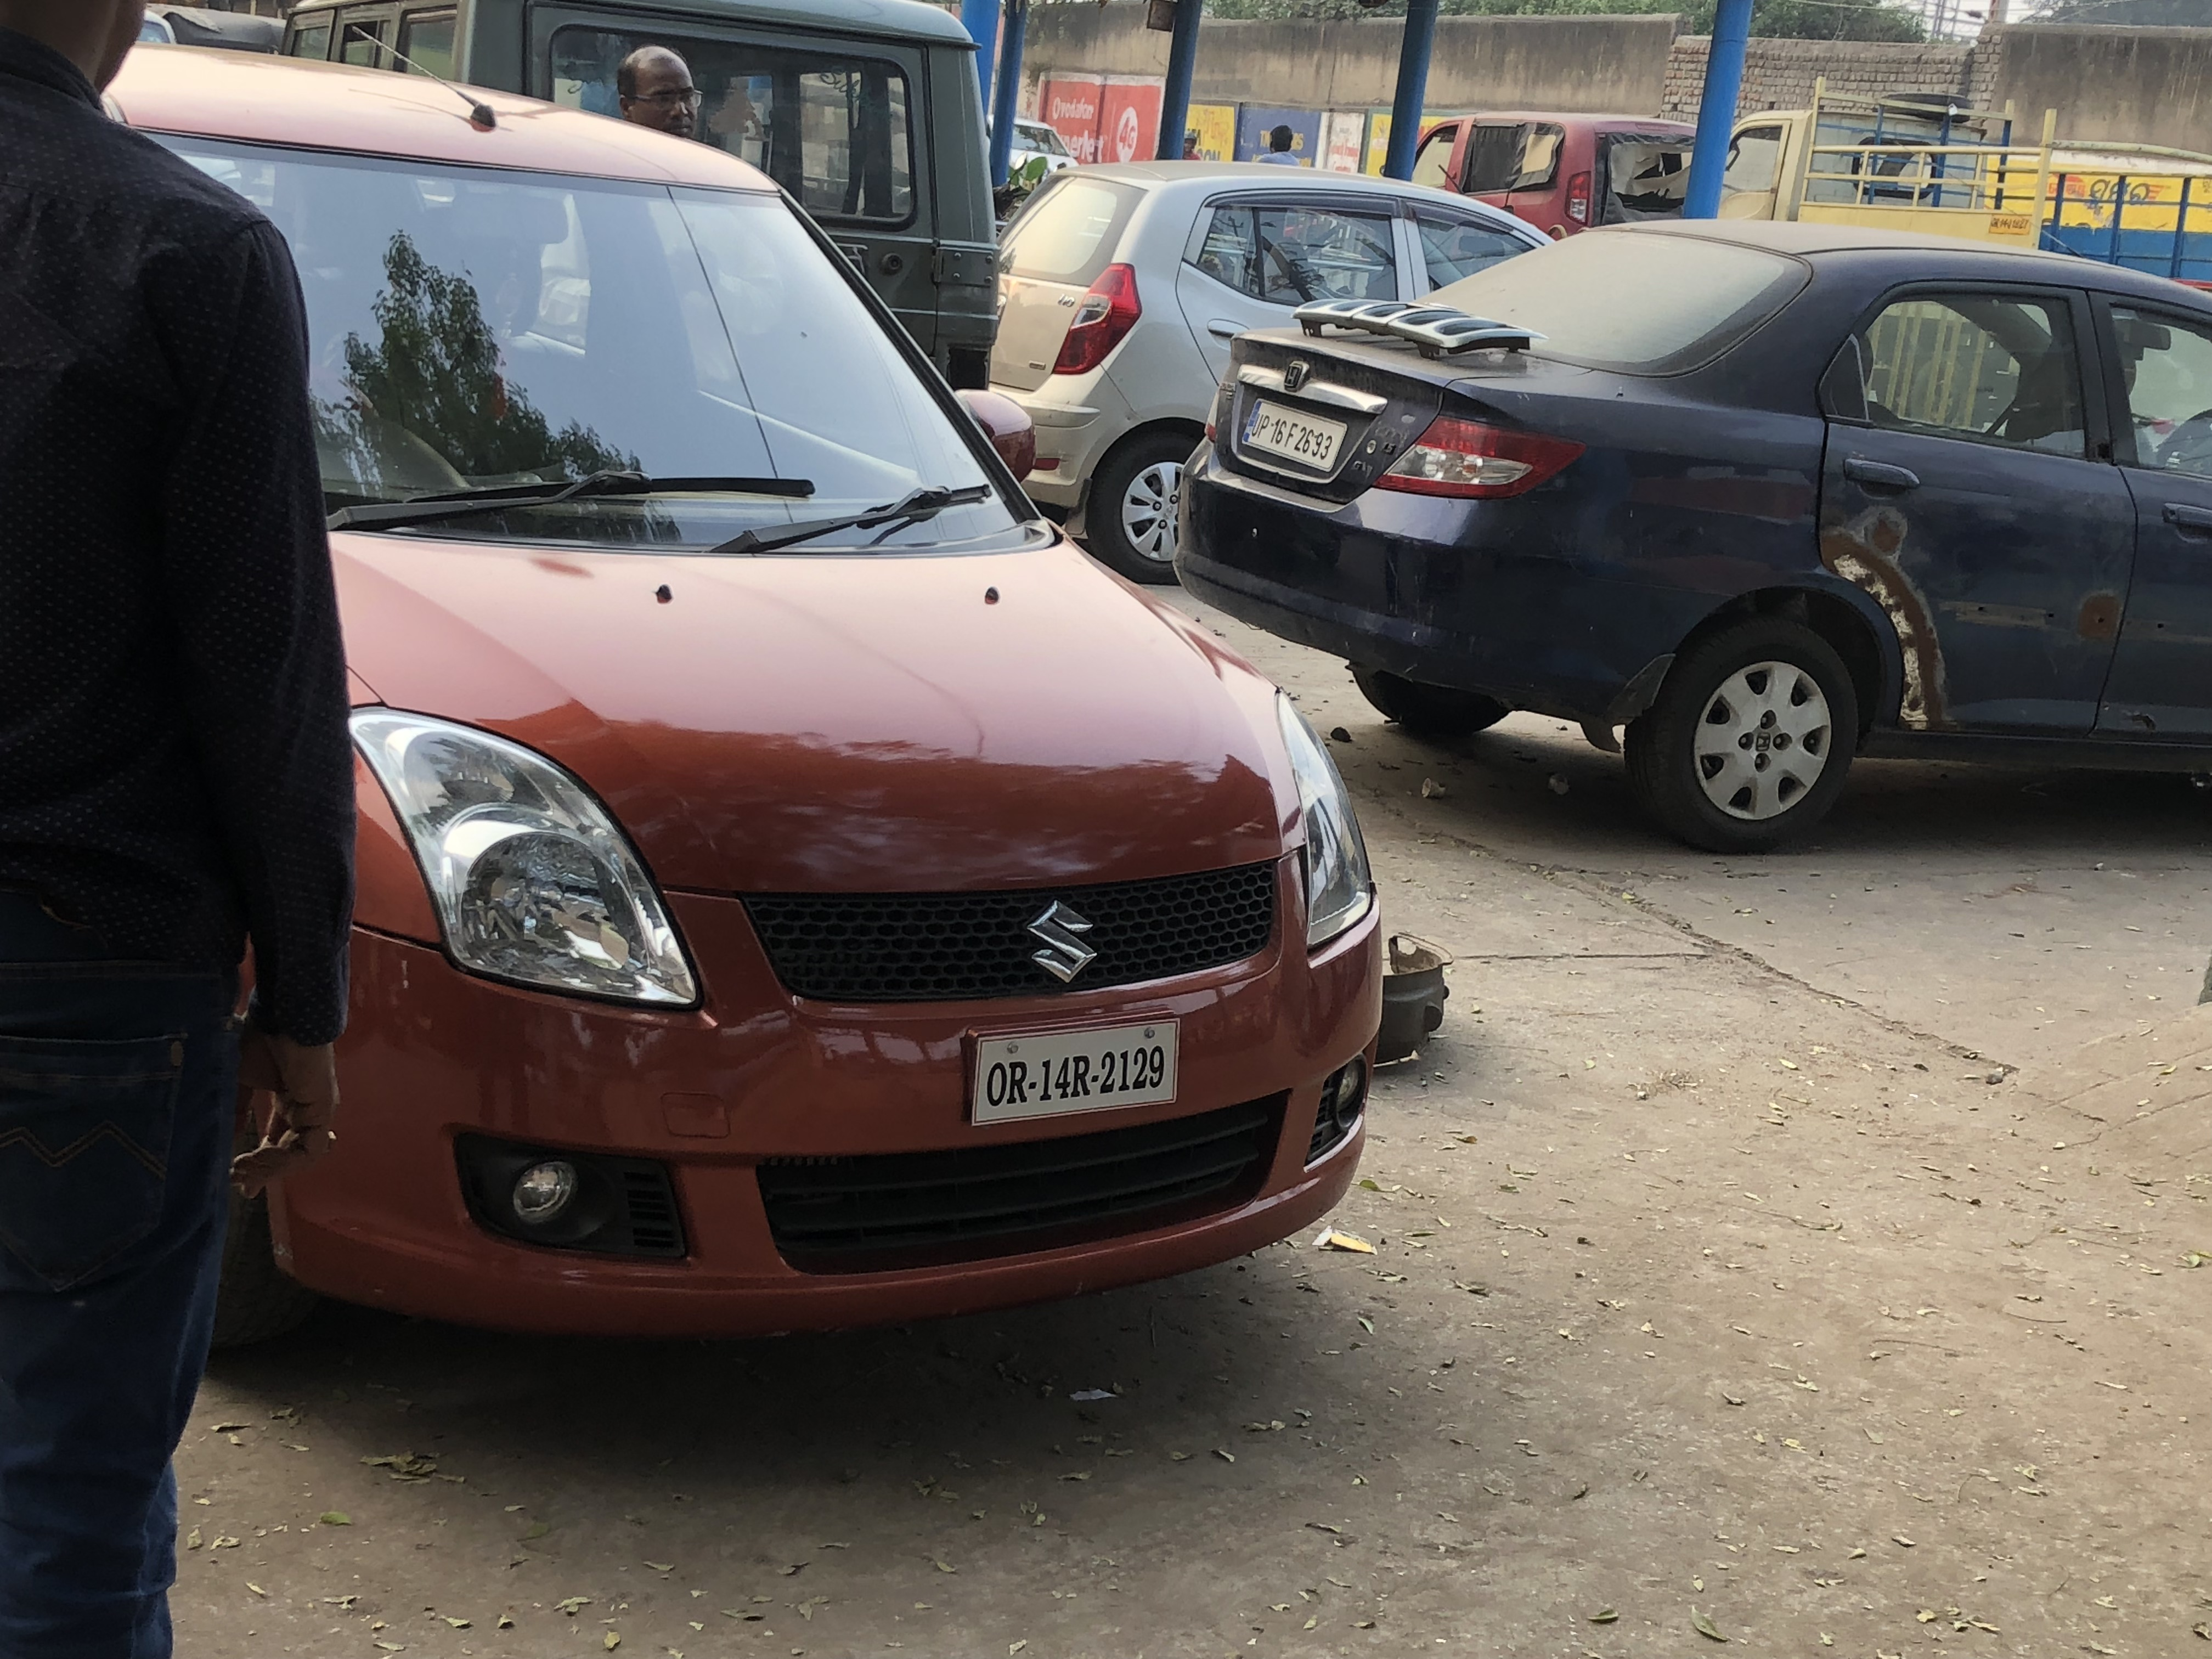licenseplate: (968, 1017, 1189, 1125)
